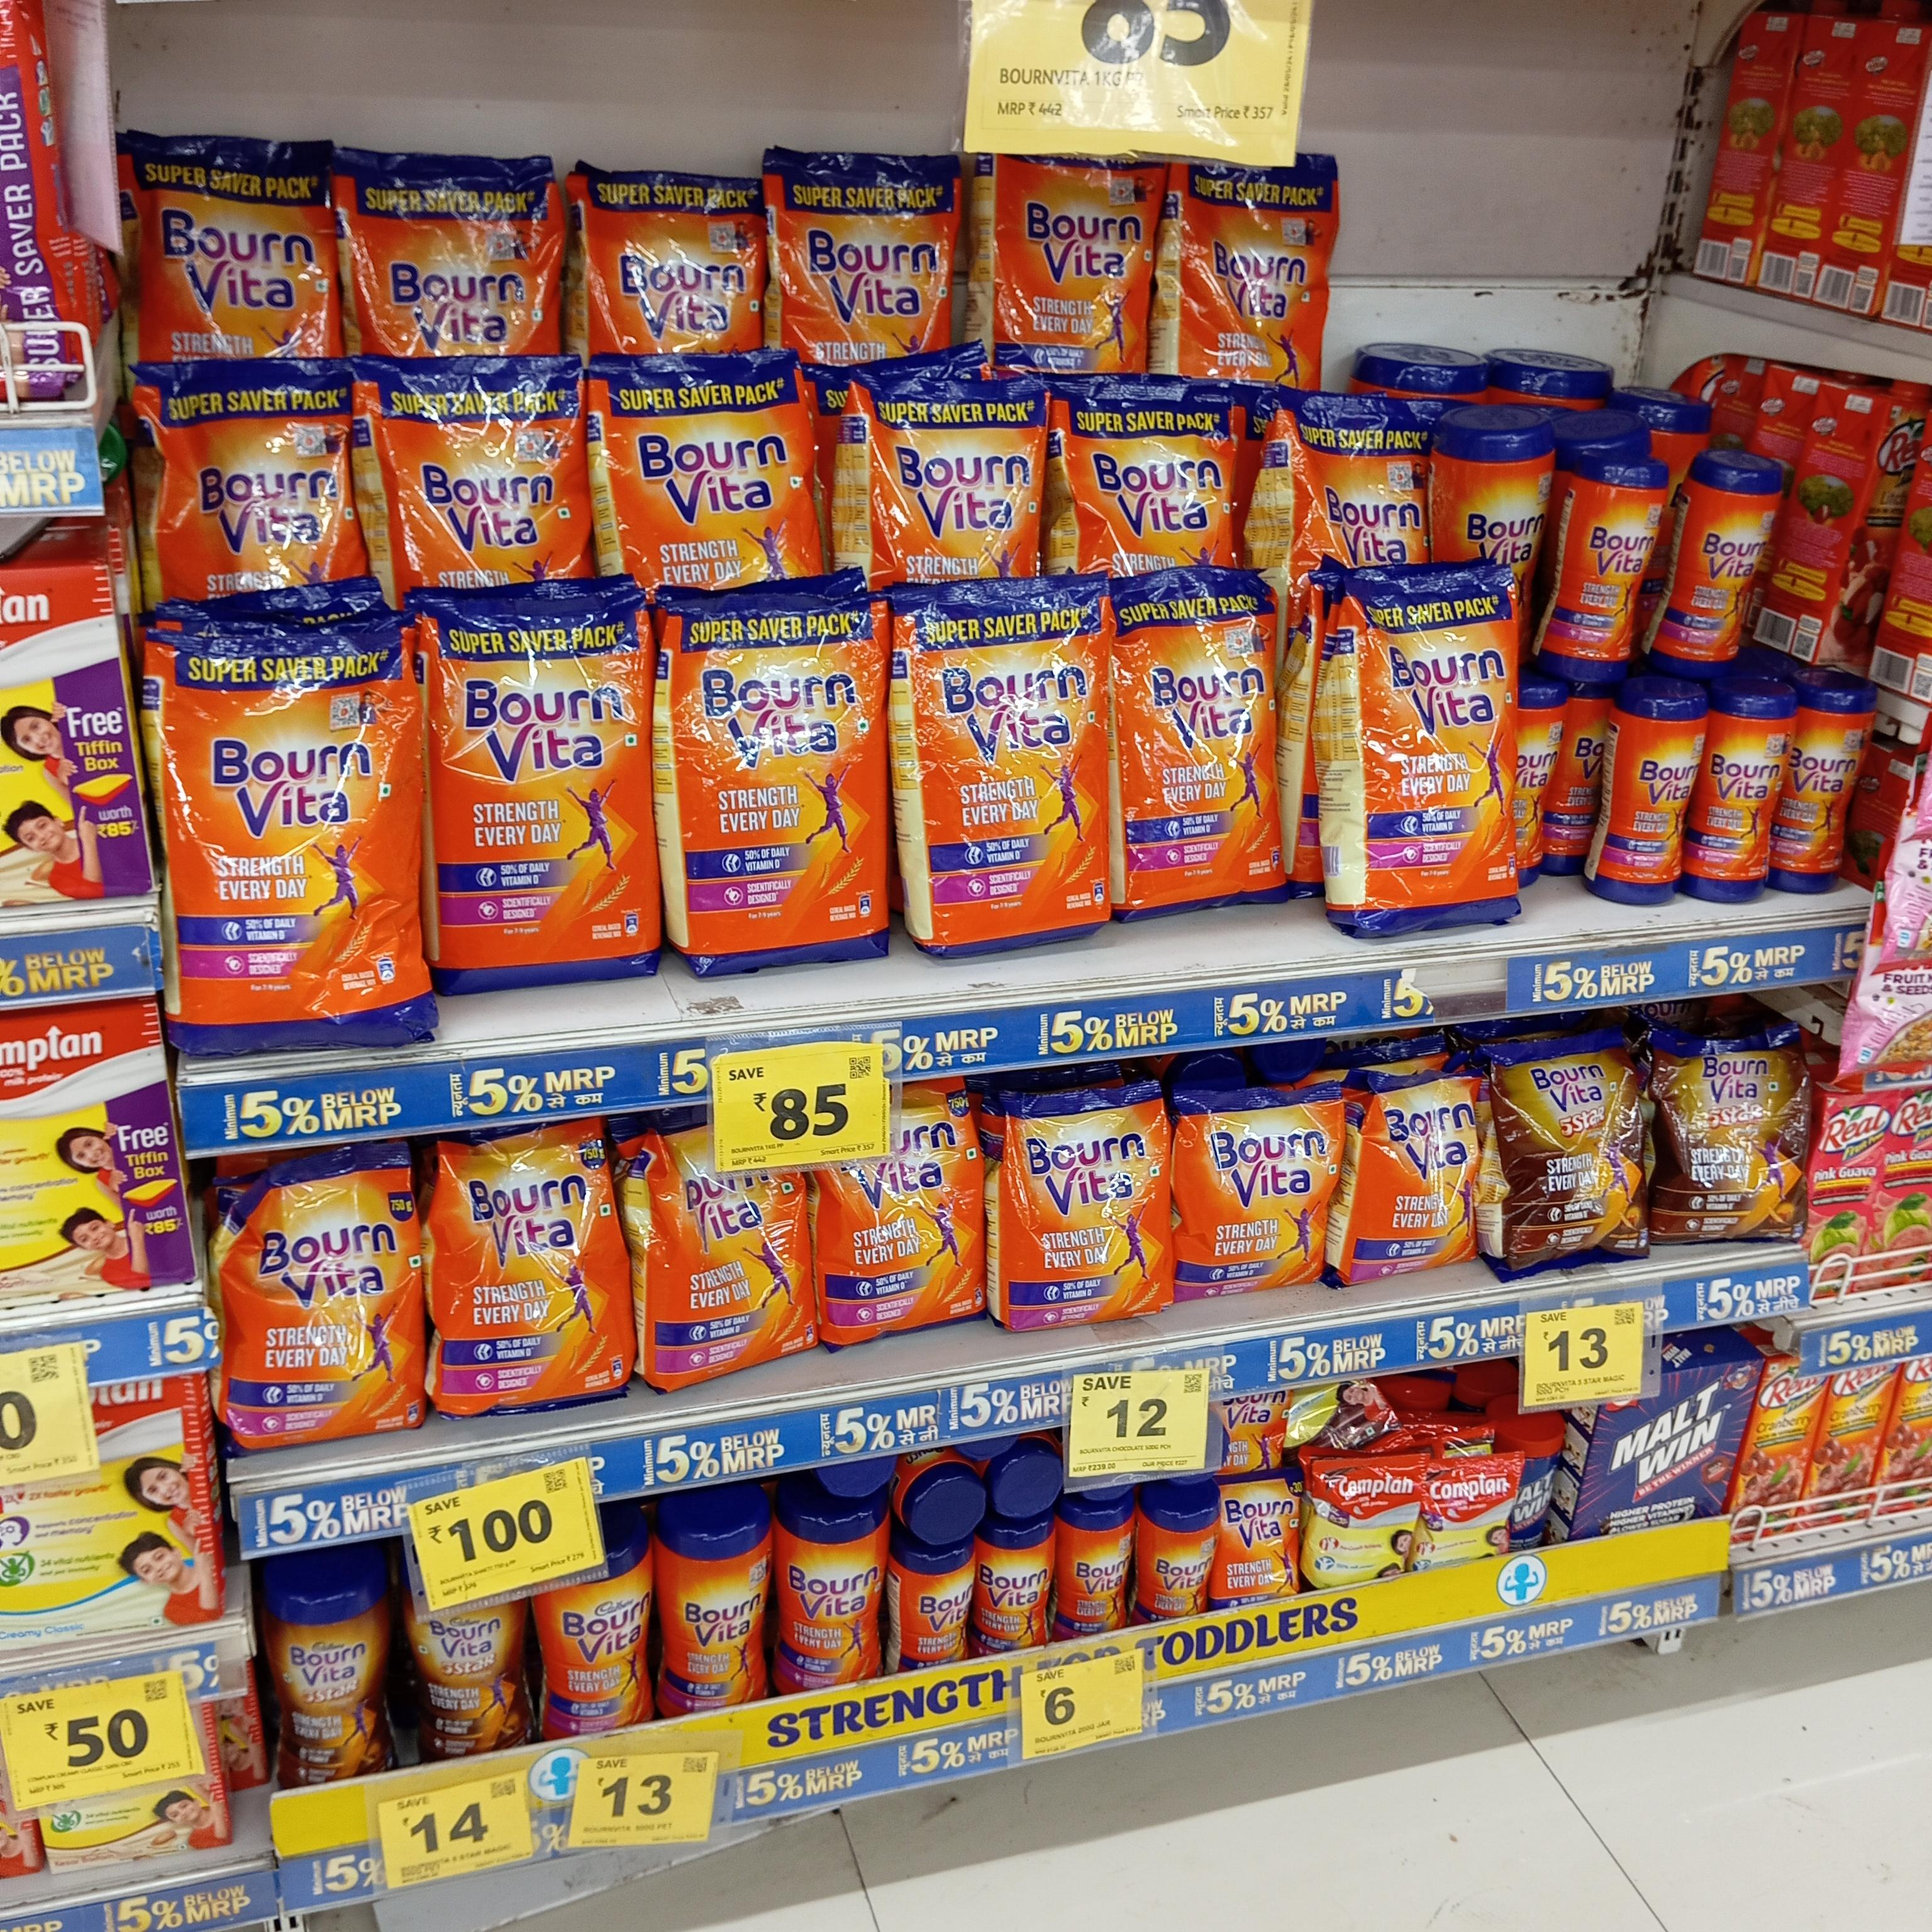BOURN_VITA_1_KG_POUCH: (154, 639, 414, 1046), (426, 591, 655, 985), (674, 600, 886, 971), (915, 579, 1106, 947), (1120, 577, 1292, 922), (1362, 573, 1516, 936)
BOURN_VITA_200_G_JAR: (902, 1545, 977, 1674), (980, 1522, 1051, 1654), (1063, 1506, 1134, 1637), (1139, 1506, 1214, 1628)
BOURN_VITA_500_G_JAR: (534, 1539, 648, 1739), (653, 1520, 766, 1716), (1683, 455, 1775, 679), (1568, 458, 1658, 686), (777, 1506, 886, 1691), (1612, 695, 1700, 904), (1787, 674, 1863, 893), (1713, 688, 1782, 899)
BOURN_VITA_500_G_POUCH: (1012, 1095, 1169, 1327), (1178, 1093, 1332, 1297), (1361, 1095, 1476, 1279)
BOURN_VITA_750_G_POUCH: (228, 1169, 419, 1456), (439, 1131, 626, 1421), (653, 1113, 805, 1375), (821, 1106, 978, 1346)
BOURN_VITA_75_G_POUCH: (1219, 1476, 1300, 1603)
BOURN_VITA_FIVE_STAR_MAGIC_500_G_JAR: (262, 1568, 389, 1789), (416, 1606, 520, 1771)
BOURN_VITA_FIVE_STAR_MAGIC_500_G_POUCH: (1490, 1040, 1644, 1276), (1654, 1046, 1805, 1246)
COMPLAN_CREAMY_CLASSIC_500_G_PACK: (4, 1382, 225, 1663)
COMPLAN_KESAR_BADAM_500_GMS_PACK: (0, 1000, 175, 1320)
